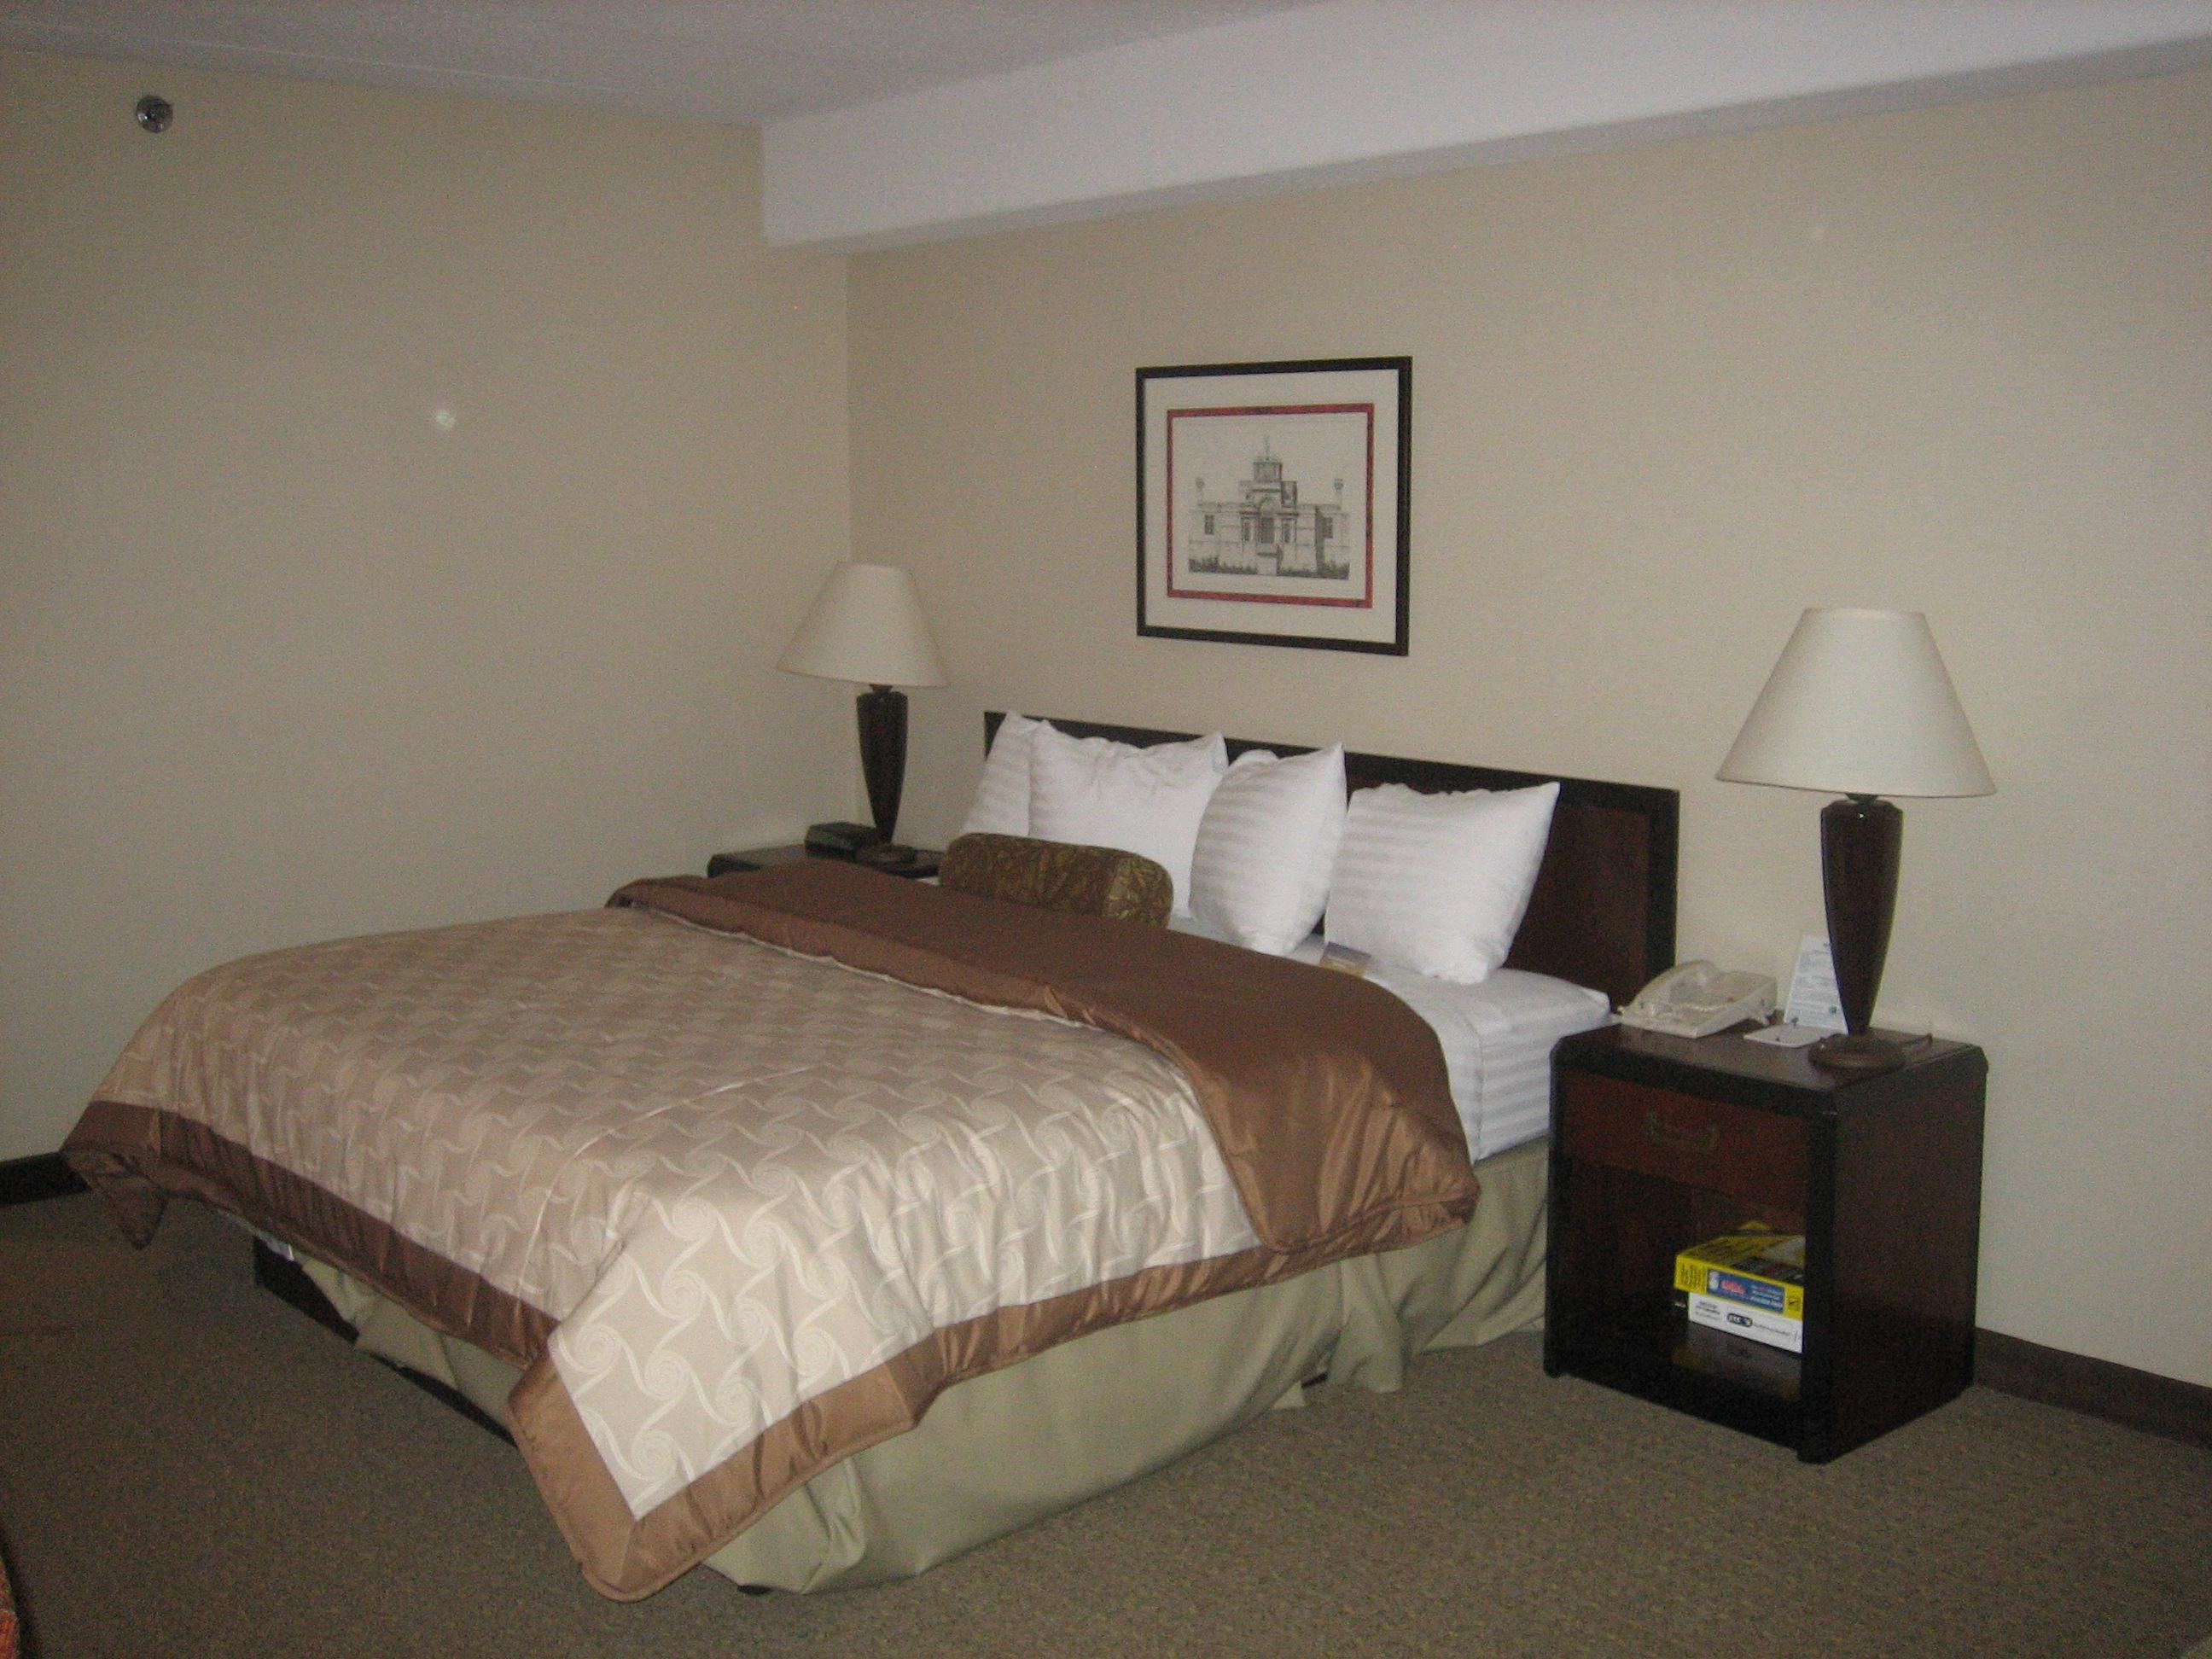Cama: (171, 692, 1703, 1610)
